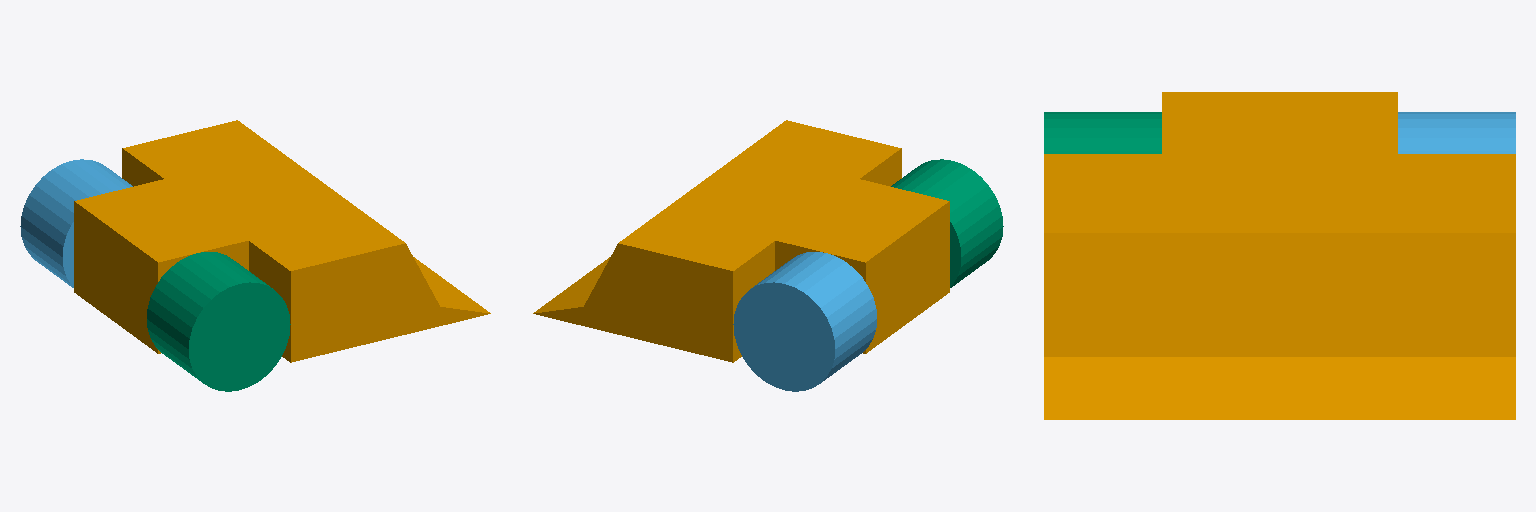
The robot description file, URDF, robot "montagem_sumo_padrao":
<?xml version="1.0" encoding="utf-8"?>
<!-- This URDF was automatically created by SolidWorks to URDF Exporter! Originally created by [author] ([email redacted])
     Commit Version: 1.6.0-1-g15f4949  Build Version: 1.6.7594.29634
     For more information, please see http://wiki.ros.org/sw_urdf_exporter -->
<robot
  name="montagem_sumo_padrao">
  <link
    name="base_link">
    <inertial>
      <origin
        xyz="-0.003 0 0.014"
        rpy="-1.5708 0 -1.5708" />
      <mass
        value="0.384905526771832" />
      <inertia
        ixx="0.000217425279598283"
        ixy="-8.85844261595288E-21"
        ixz="1.98523347012727E-20"
        iyy="0.000450640644807969"
        iyz="-1.23657382148063E-05"
        izz="0.0002920438460767" />
    </inertial>
    <visual>
      <origin
        xyz="0 0 0"
        rpy="0 0 0" />
      <geometry>
        <mesh
          filename="package://sumo_simulation/meshes/base_link_visual.STL" />
      </geometry>
    </visual>
    <collision>
      <origin
        xyz="0 0 0"
        rpy="0 0 0" />
      <geometry>
        <mesh
          filename="package://sumo_simulation/meshes/base_link_collision.STL" />
      </geometry>
    </collision>
  </link>

  <link
    name="left_wheel_link">
    <inertial>
      <origin
        xyz="0 0 0"
        rpy="0 0 0" />
      <mass
        value="0.051954" />
      <inertia
        ixx="7.1339E-06"
        ixy="5.294E-23"
        ixz="-7.7993E-40"
        iyy="7.1339E-06"
        iyz="-1.0071E-37"
        izz="7.9555E-06" />
    </inertial>
    <visual>
      <origin
        xyz="0 0 0"
        rpy="0 0 0" />
      <geometry>
        <cylinder radius="17.5e-3" length="25e-3"/>
      </geometry>
    </visual>
    <collision>
      <origin
        xyz="0 0 0"
        rpy="0 0 0" />
      <geometry>
        <cylinder radius="17.5e-3" length="25e-3"/>
      </geometry>
    </collision>
  </link>

  <joint
    name="left_wheel_joint"
    type="continuous">
    <origin
      xyz="-0.0365 0.0375 0.0125"
      rpy="1.5708 0 0" />
    <parent
      link="base_link" />
    <child
      link="left_wheel_link" />
    <axis
      xyz="0 0 -1" />
  </joint>

  <link
    name="right_wheel_link">
    <inertial>
      <origin
        xyz="0 0 0"
        rpy="0 0 0" />
      <mass
        value="0.051954" />
      <inertia
        ixx="7.1339E-06"
        ixy="3.0093E-36"
        ixz="-4.1326E-38"
        iyy="7.1339E-06"
        iyz="3.6734E-38"
        izz="7.9555E-06" />
    </inertial>
    <visual>
      <origin
        xyz="0 0 0"
        rpy="0 0 0" />
      <geometry>
        <cylinder radius="17.5e-3" length="25e-3"/>
      </geometry>
    </visual>
    <collision>
      <origin
        xyz="0 0 0"
        rpy="0 0 0" />
      <geometry>
        <cylinder radius="17.5e-3" length="25e-3"/>
      </geometry>
    </collision>
  </link>

  <joint
    name="right_wheel_joint"
    type="continuous">
    <origin
      xyz="-0.0365 -0.0375 0.0125"
      rpy="-1.5708 0 0" />
    <parent
      link="base_link" />
    <child
      link="right_wheel_link" />
    <axis
      xyz="0 0 1" />
  </joint>

  <link name="ds0_link"/>
  <joint name="ds0_joint" type="fixed">
    <origin xyz="25e-3 25e-3 20e-3" rpy="0 -0.08 0.4"/>
    <parent link="base_link"/>
    <child link="ds0_link"/>
    <axis xyz="0 0 0"/>
  </joint>

  <link name="ds1_link"/>
  <joint name="ds1_joint" type="fixed">
    <origin xyz="25e-3 0 20e-3" rpy="0 -0.08 0"/>
    <parent link="base_link"/>
    <child link="ds1_link"/>
    <axis xyz="0 0 0"/>
  </joint>

  <link name="ds2_link"/>
  <joint name="ds2_joint" type="fixed">
    <origin xyz="25e-3 -25e-3 20e-3" rpy="0 -0.08 -0.4"/>
    <parent link="base_link"/>
    <child link="ds2_link"/>
    <axis xyz="0 0 0"/>
  </joint>


  <!-- <link
    name="imu_link">
    <visual>
      <origin
        xyz="0 0 0"
        rpy="0 0 0" />
      <geometry>
        <box size="0.02 0.02 0.02" />
      </geometry>
      <material
        name="">
        <color
          rgba="0.792156862745098 0.819607843137255 0.933333333333333 1" />
      </material>
    </visual>
    <collision>
      <origin
        xyz="0 0 0"
        rpy="0 0 0" />
      <geometry>
        <box size="0.02 0.02 0.02" />
      </geometry>
    </collision>
  </link>

  <joint
    name="imu_joint"
    type="fixed">
    <origin
      xyz="0 0 0"
      rpy="0 0 0" />
    <parent
      link="base_link" />
    <child
      link="imu_link" />
    <axis
      xyz="0 0 0" />
  </joint> -->

</robot>

--- Render facts (derived) ---
3 views of the same robot in one strip: view 1: azimuth 30°, elevation 25°; view 2: azimuth 150°, elevation 25°; view 3: azimuth 270°, elevation 25° (orthographic).
Robot: montagem_sumo_padrao — 6 links, 5 joints (2 continuous, 3 fixed); root link base_link; default pose: every joint at zero.
Visible links, largest first — view 1: base_link, right_wheel_link, left_wheel_link; view 2: base_link, left_wheel_link, right_wheel_link; view 3: base_link, left_wheel_link, right_wheel_link.
Boxes of the visible links, box(x1,y1,x2,y2) form: base_link: box(74, 120, 490, 362); right_wheel_link: box(147, 252, 290, 391); left_wheel_link: box(20, 159, 132, 287); base_link: box(533, 120, 949, 362); left_wheel_link: box(733, 252, 876, 391); right_wheel_link: box(891, 159, 1003, 287); base_link: box(1044, 92, 1515, 419); left_wheel_link: box(1398, 112, 1515, 153); right_wheel_link: box(1044, 112, 1161, 153).
Bounding box of the posed robot: 0.104 × 0.1 × 0.035 m (x, y, z).
Meshes: 1 distinct files referenced, 1 mesh visuals loaded (1 binary STL).